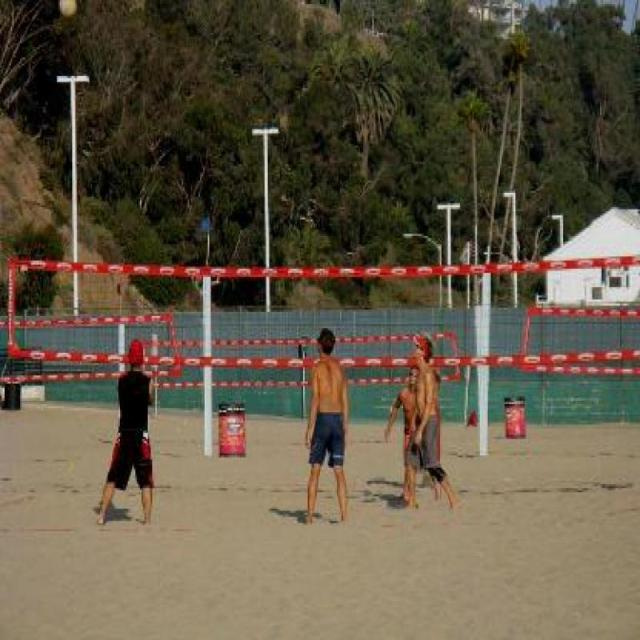volleyball: (57, 0, 77, 17)
